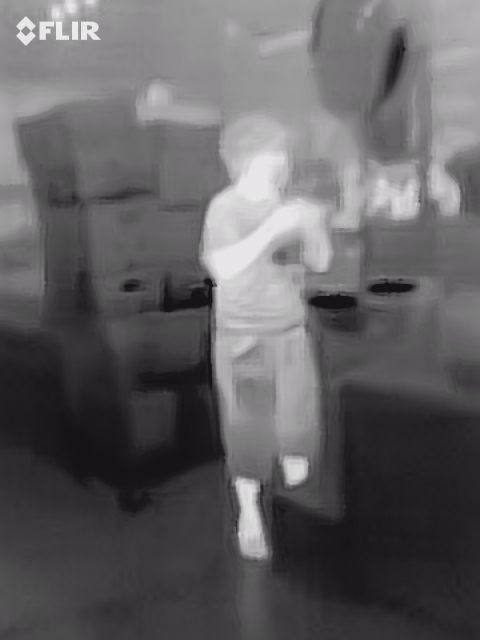head: (219, 116, 294, 187)
